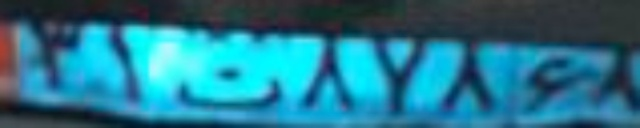1: (102, 19, 145, 102)
3: (28, 21, 91, 92)
6: (519, 56, 579, 113)
7: (370, 33, 428, 112)
8: (296, 32, 358, 111), (439, 37, 493, 112), (589, 43, 637, 113)
te: (172, 65, 287, 108)
